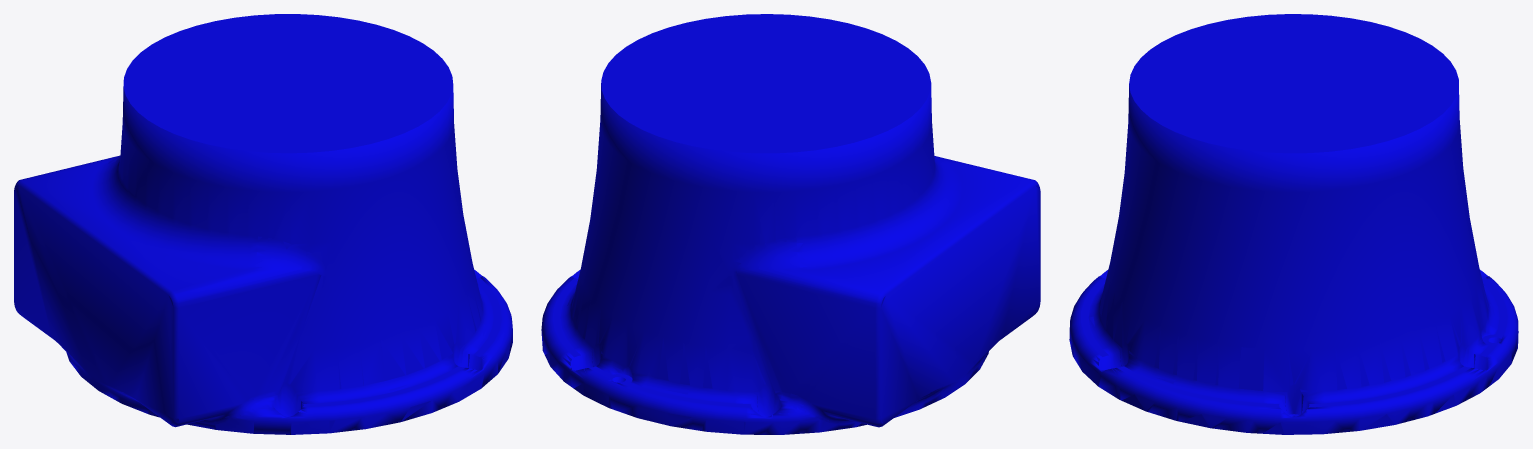
3 renders of one model, left to right at view 1: azimuth 30°, elevation 25°; view 2: azimuth 150°, elevation 25°; view 3: azimuth 270°, elevation 25°, orthographic.
Parts seen in each view (by area): view 1: base; view 2: base; view 3: base.
Boxes of the visible parts, x1,y1,x2,y2 form: base: (14, 14, 512, 434); base: (541, 14, 1040, 434); base: (1069, 14, 1518, 434).
Size of the model in its own units: 0.1619 by 0.1619 by 0.102.
